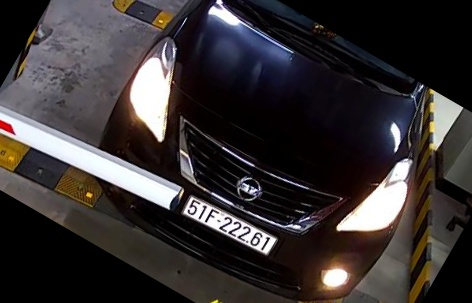plate: (183, 196, 282, 263)
